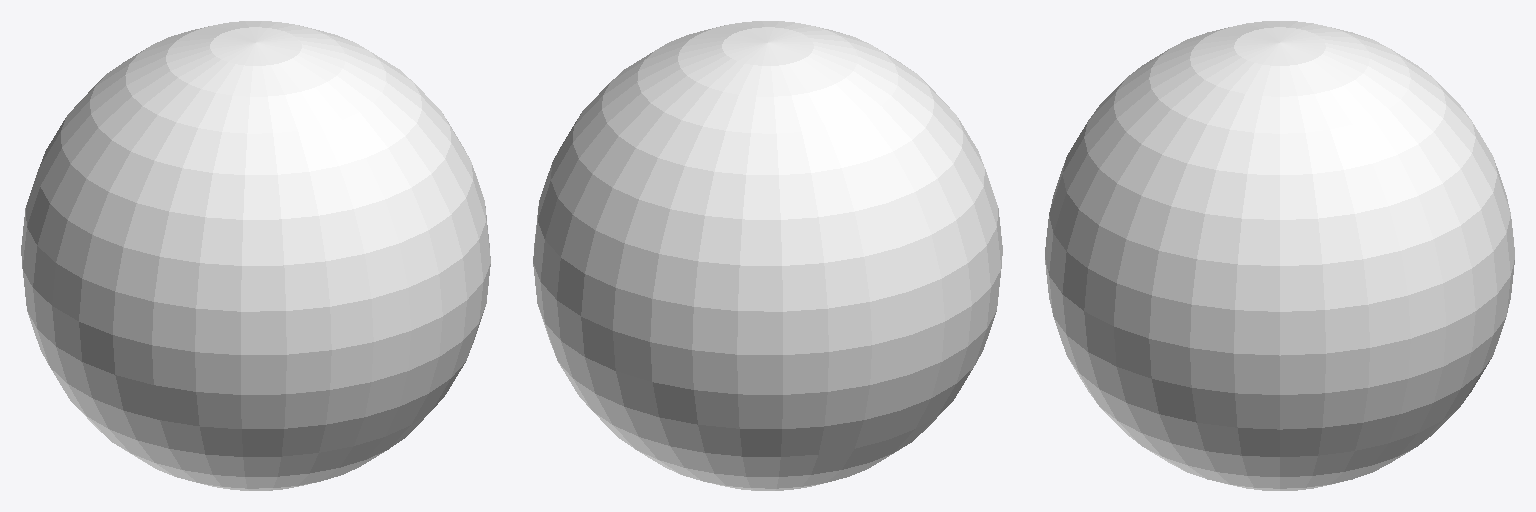
Rendered from earth_ball.obj.
3 views of the same model, side by side, from view 1: azimuth 30°, elevation 25°; view 2: azimuth 150°, elevation 25°; view 3: azimuth 270°, elevation 25° (orthographic).
Visible parts, largest first — view 1: Sphere001; view 2: Sphere001; view 3: Sphere001.
Boxes of the visible parts, x1,y1,x2,y2 form: Sphere001: [21, 21, 490, 490]; Sphere001: [533, 21, 1002, 490]; Sphere001: [1045, 21, 1514, 490].
Bounding box in the file's own units: 97.17 × 97.17 × 97.17.